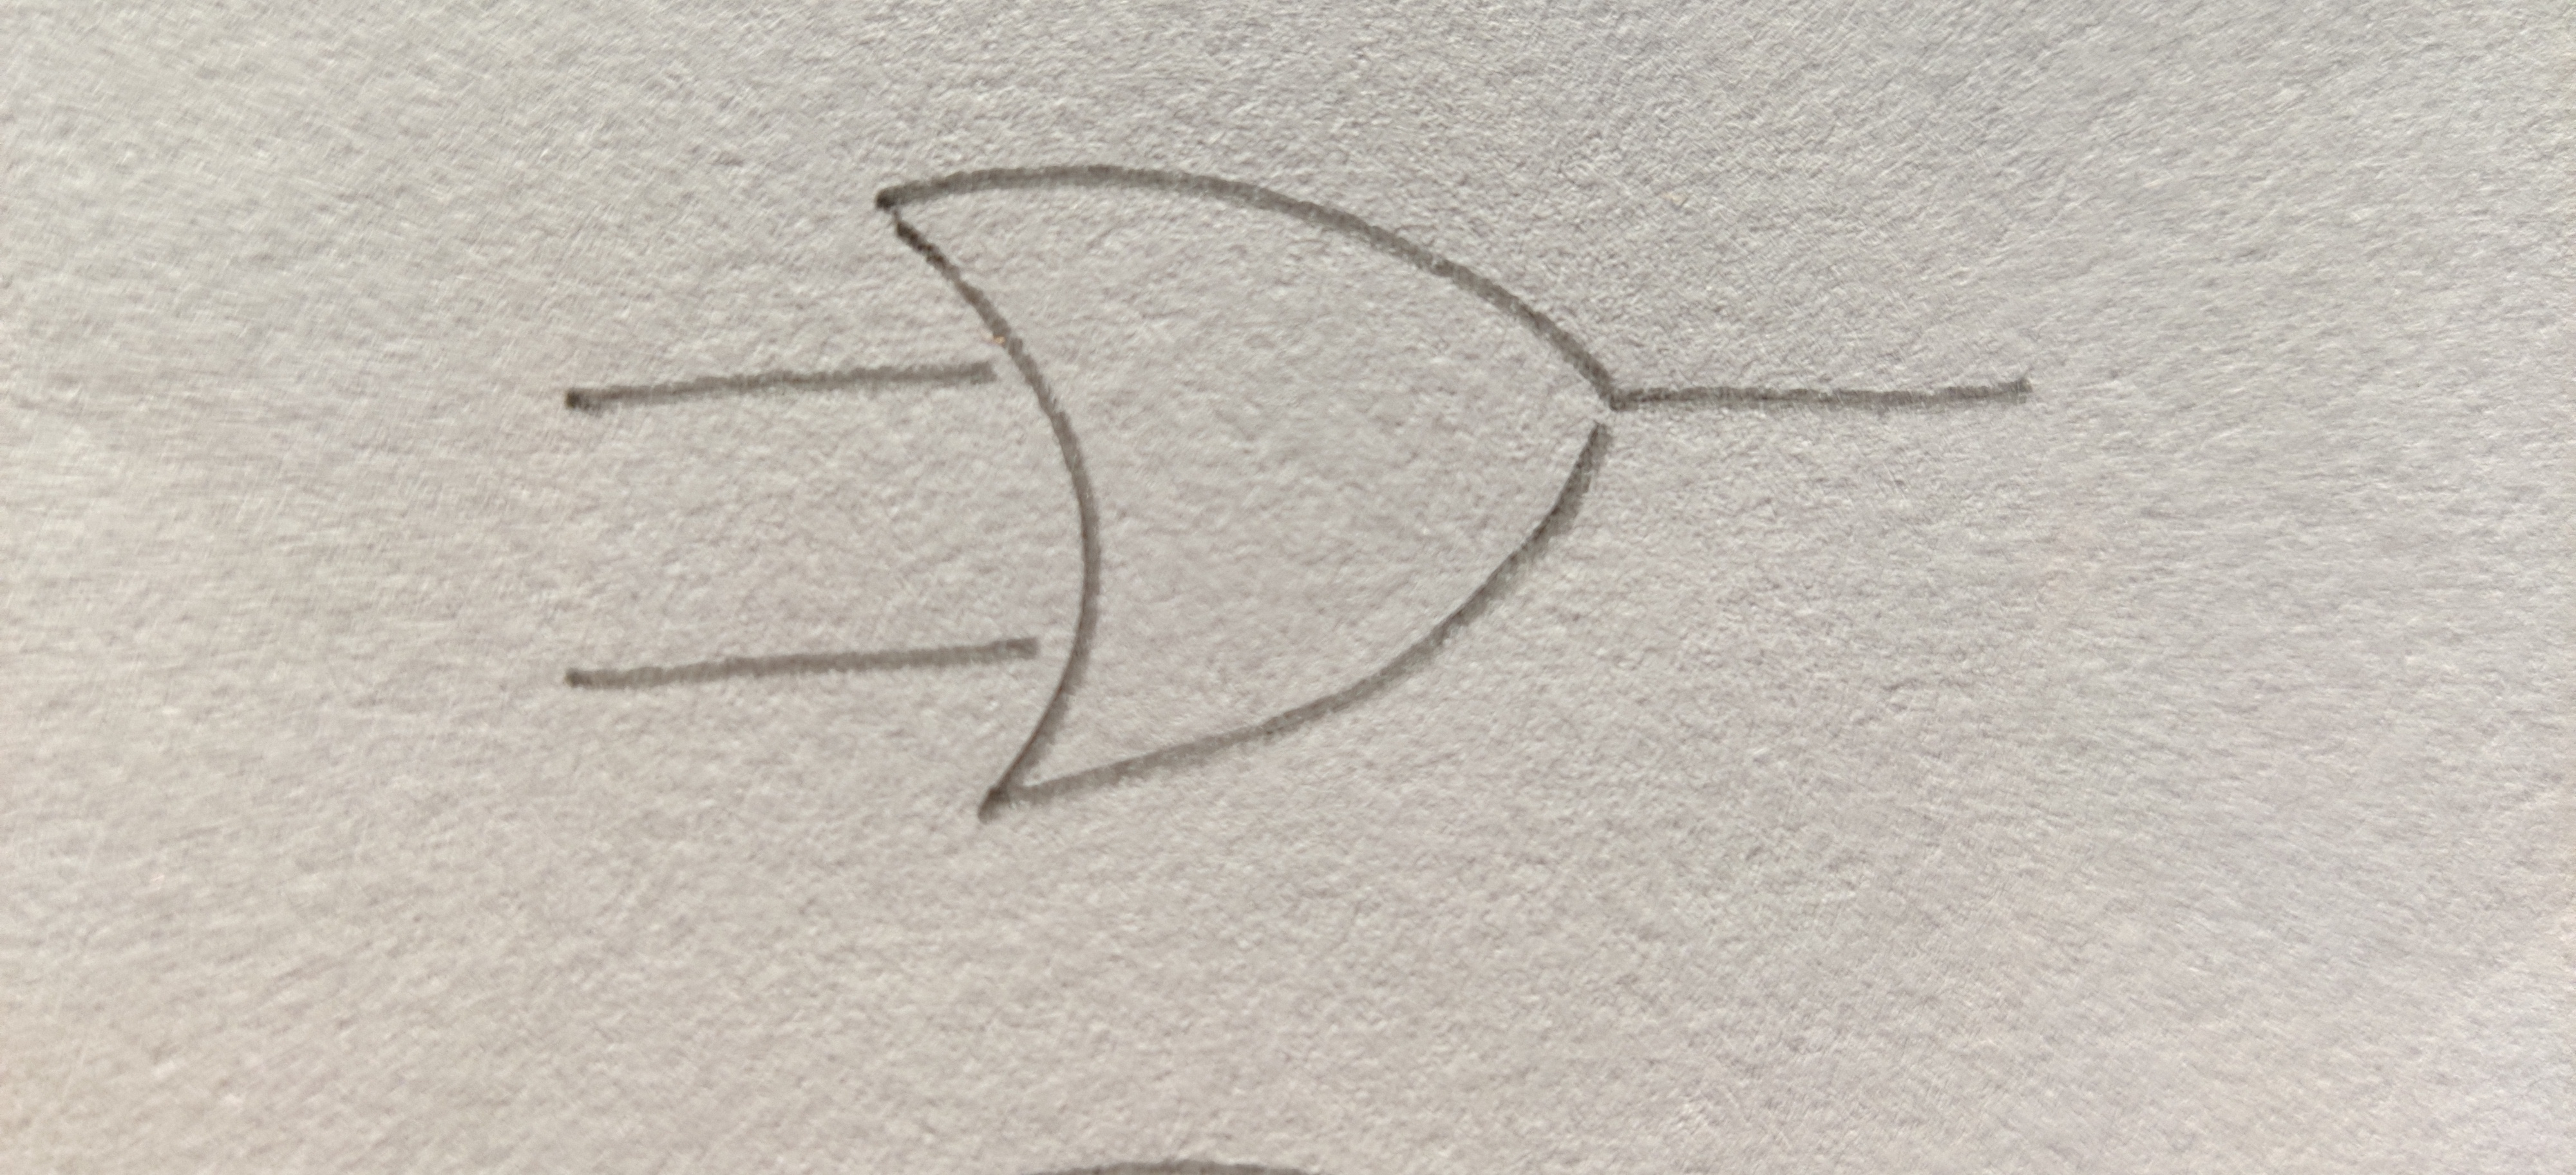or: (881, 168, 1621, 812)
